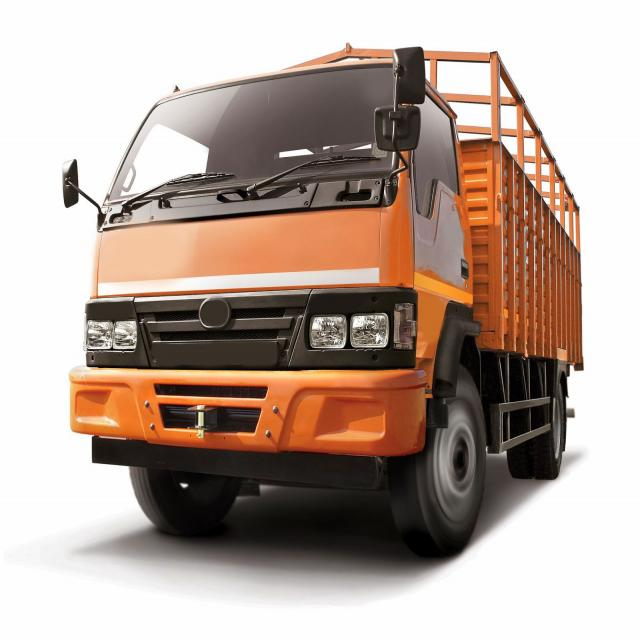Truck: (81, 46, 580, 553)
